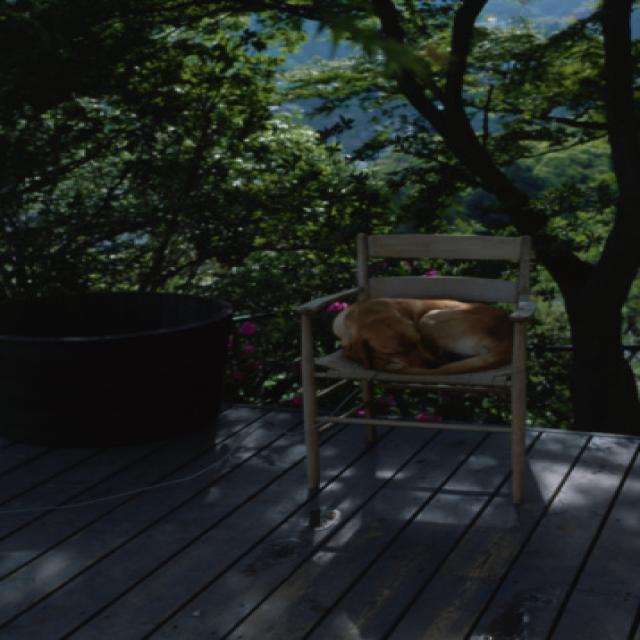Dog: (292, 212, 542, 439)
